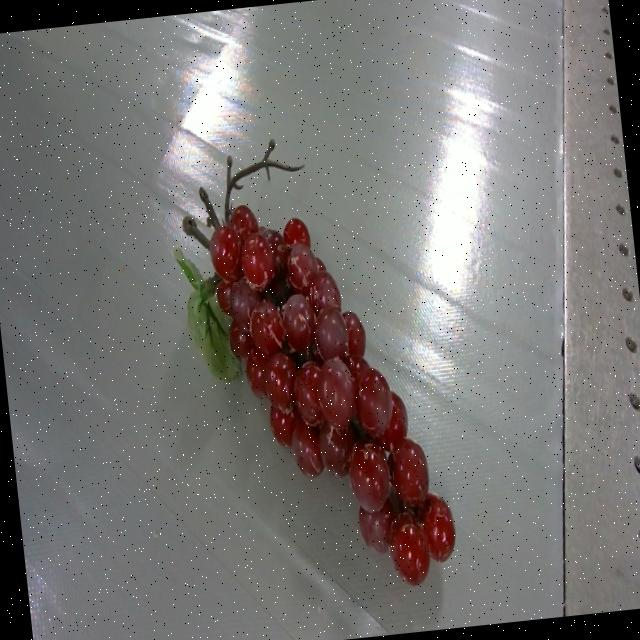grape: (175, 140, 454, 585)
